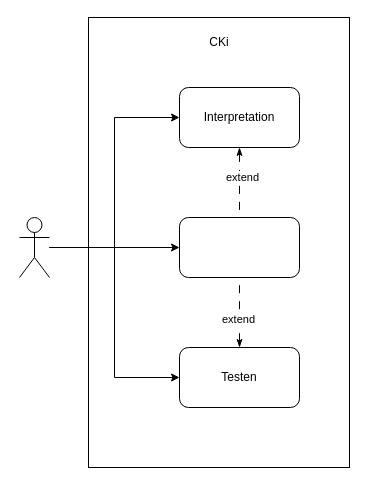
The diagram is 367 pixels wide and 485 high, and some of its shapes have lost their labels. Here are the shapes that lost their labels. From the top down, the box of each, then its label:
(18, 216, 50, 278): Nutzer
(178, 216, 300, 278): Training
